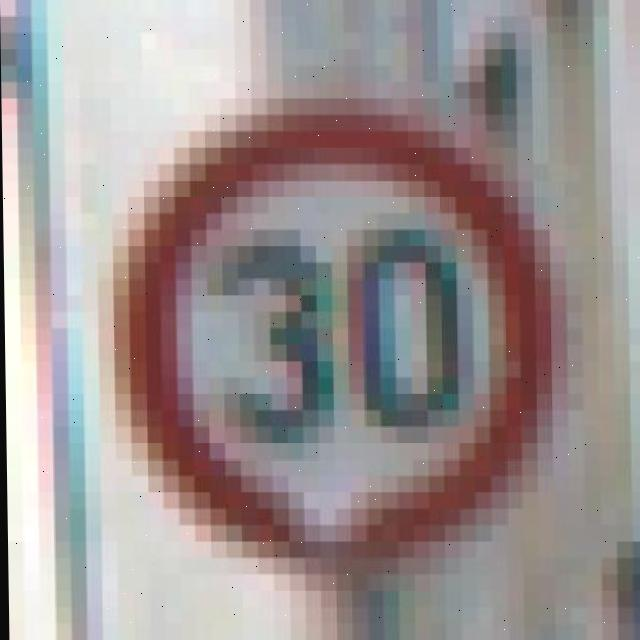Speed limit 30: (120, 108, 564, 557)
